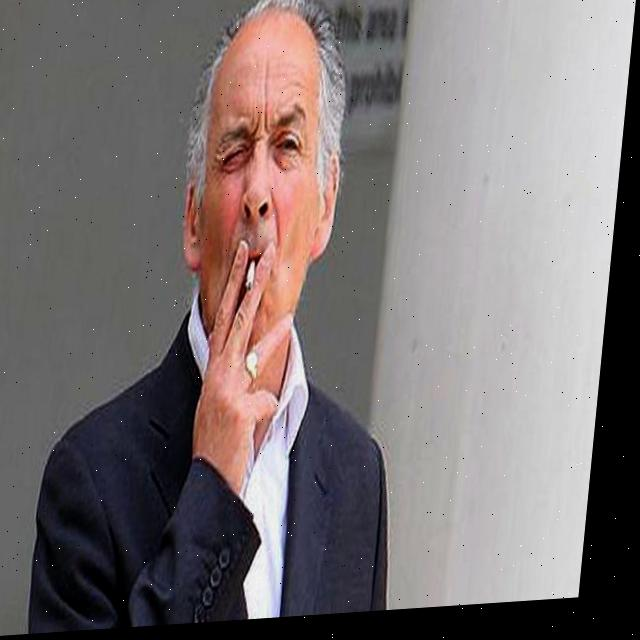cigarette: (252, 264, 261, 295)
